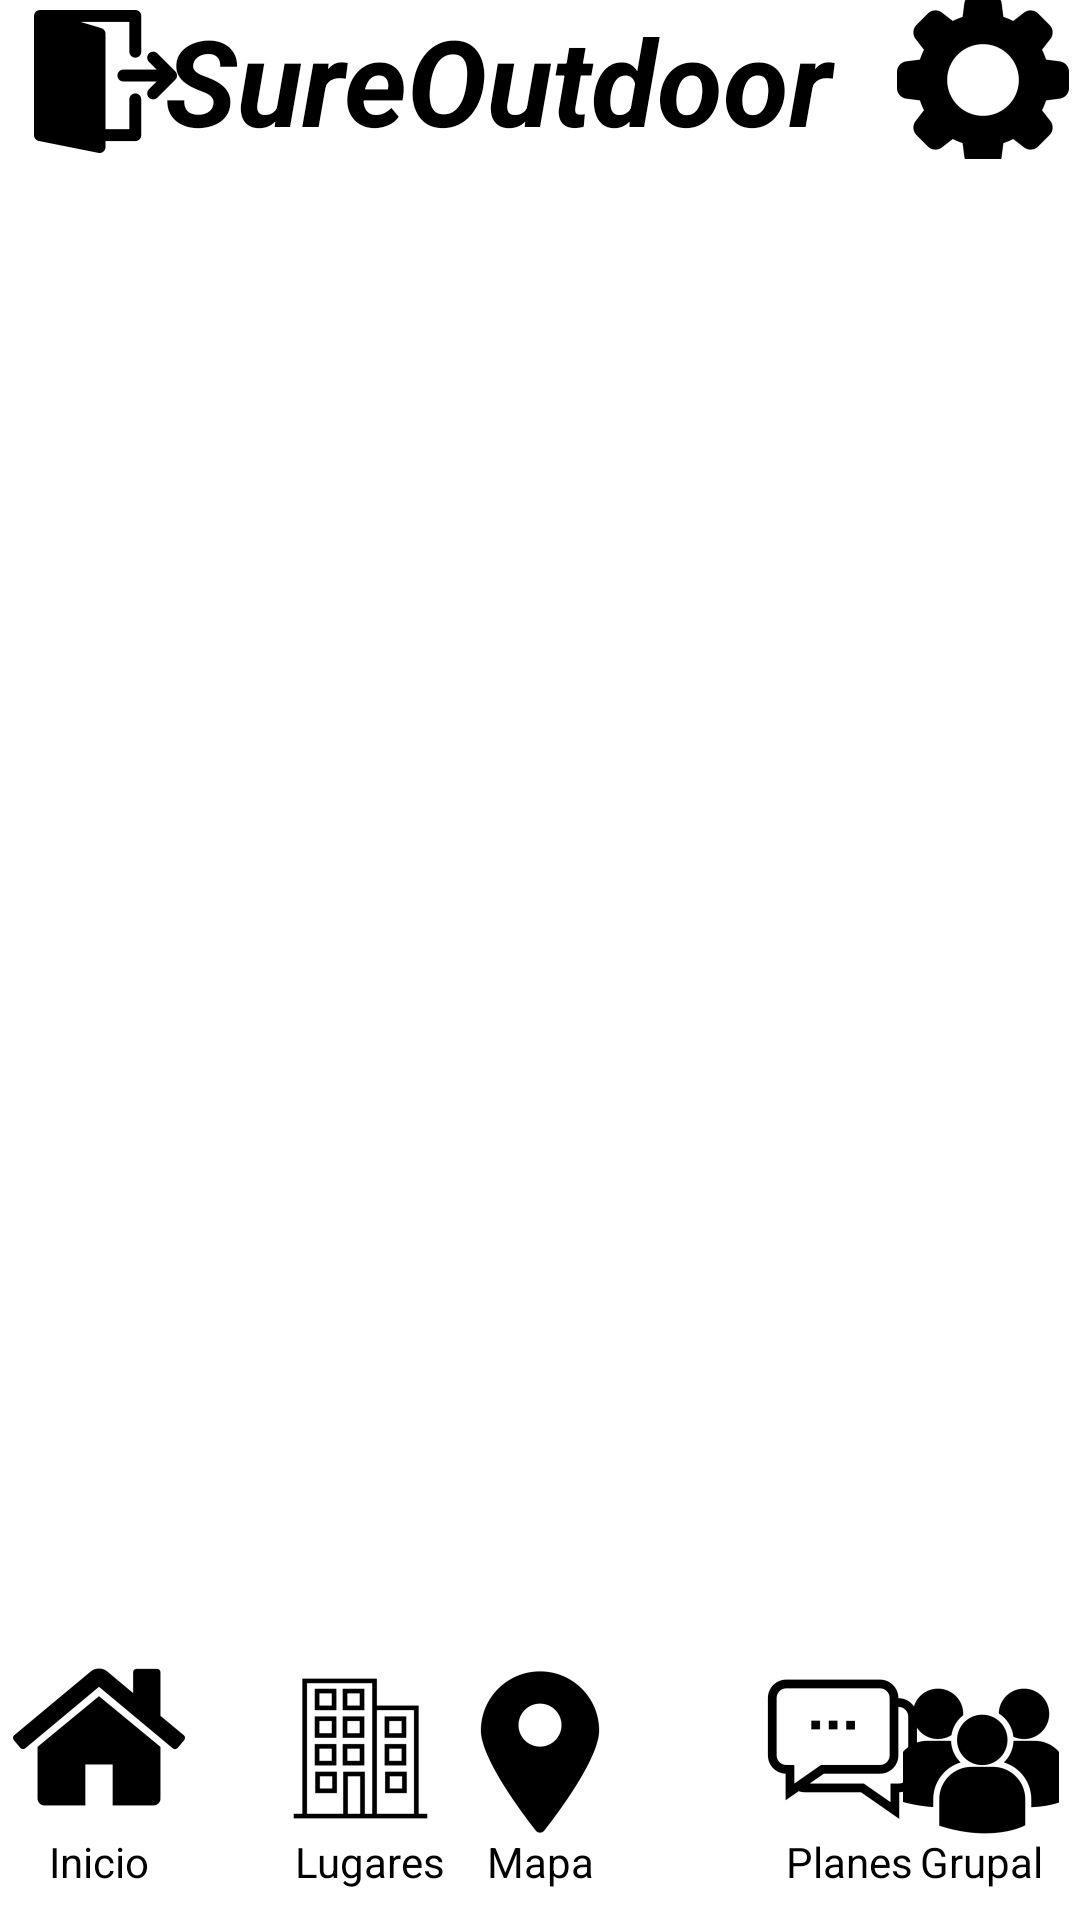

Icon click points for this 1080x1920 phone screenshot, format point (x, y):
Config: point (983, 79)
